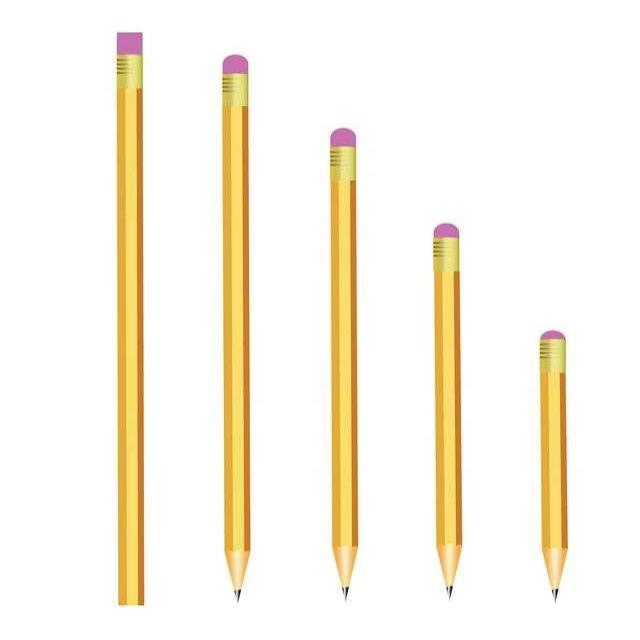pencil: (97, 18, 166, 619), (199, 38, 264, 604), (397, 213, 484, 603), (317, 121, 376, 605), (515, 320, 587, 609)
